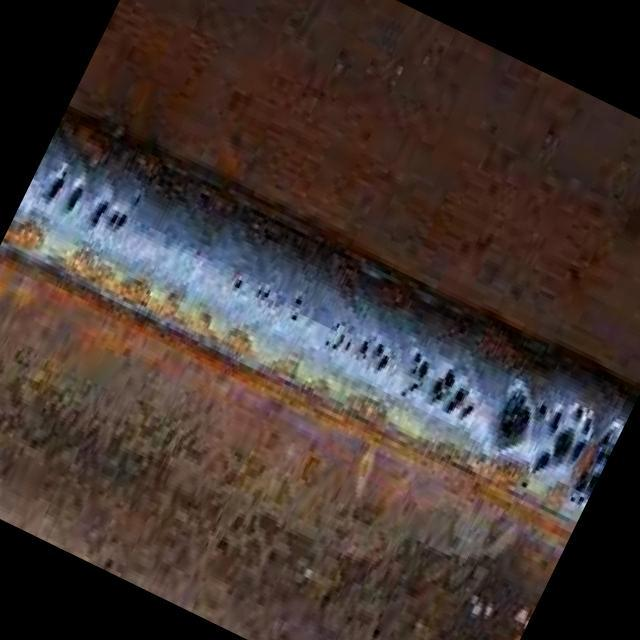defect: (397, 345, 481, 426), (567, 416, 621, 515), (529, 405, 596, 480), (83, 184, 150, 247), (492, 383, 551, 452), (35, 165, 85, 221), (351, 334, 393, 380), (319, 314, 356, 364), (223, 273, 246, 301), (251, 280, 275, 305), (286, 293, 303, 326)
